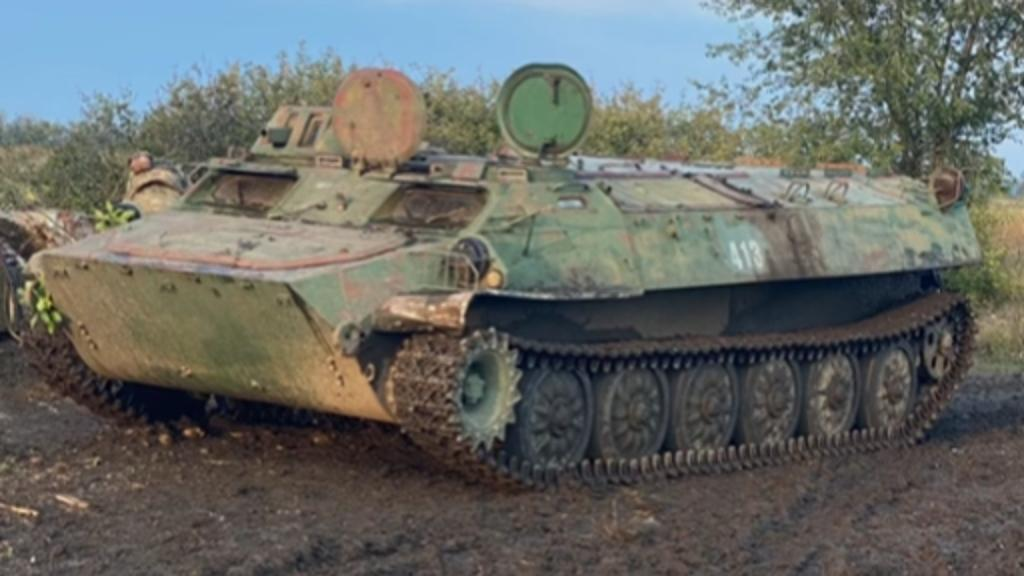APC-IFV: (2, 64, 976, 478)
